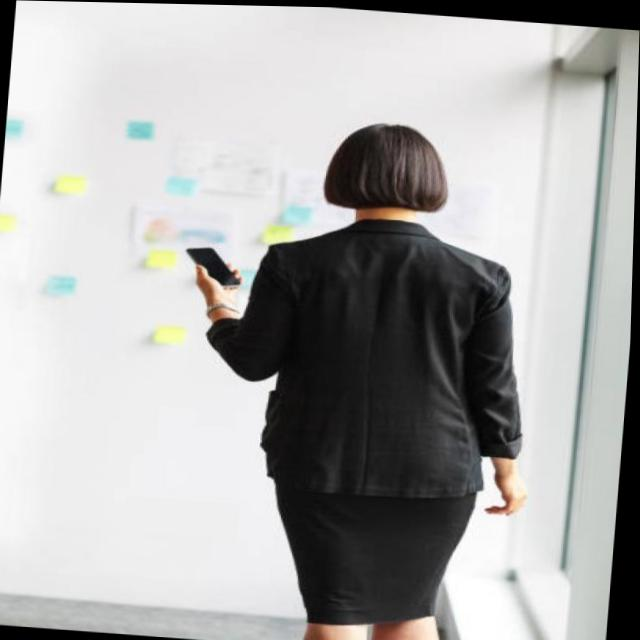no helmet: (328, 117, 463, 223)
